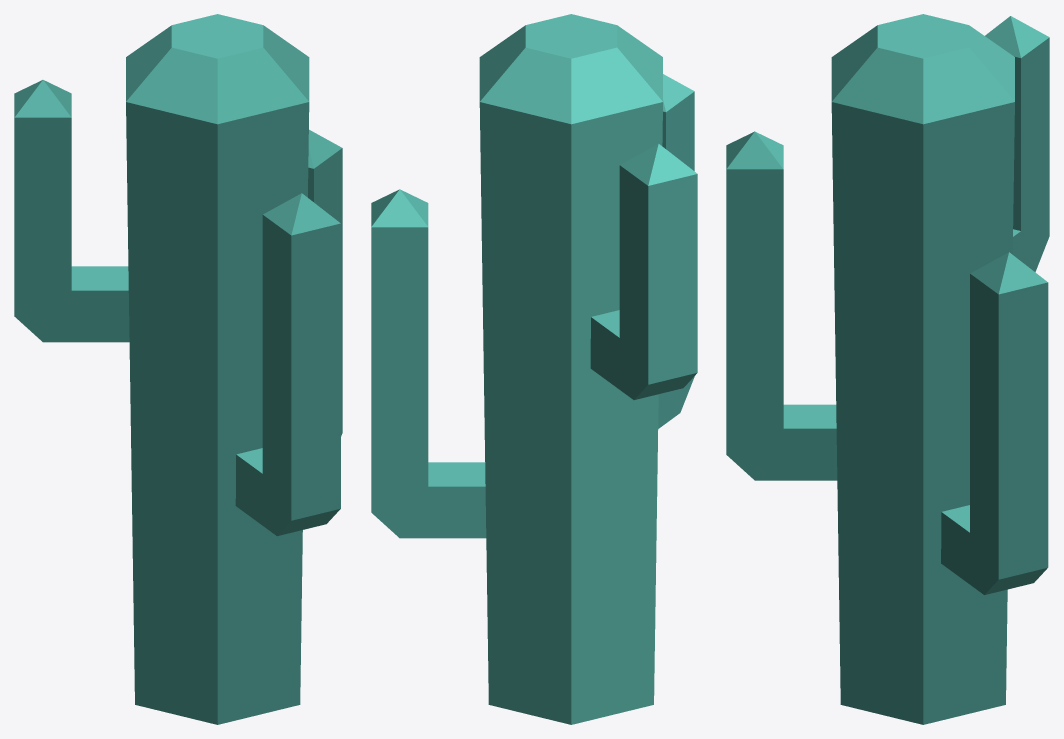
The model's file is nat_cactus_tall.glb.
3 views of the same model, side by side, from view 1: azimuth 30°, elevation 25°; view 2: azimuth 150°, elevation 25°; view 3: azimuth 270°, elevation 25° (orthographic).
Visible parts, largest first — view 1: geometry_0; view 2: geometry_0; view 3: geometry_0.
Part boxes in pixels (box(x1,y1,x2,y2)): geometry_0: box(14, 14, 342, 724); geometry_0: box(371, 14, 697, 724); geometry_0: box(726, 14, 1049, 724).
Bounding box in the file's own units: 0.5283 × 1 × 0.4521.
